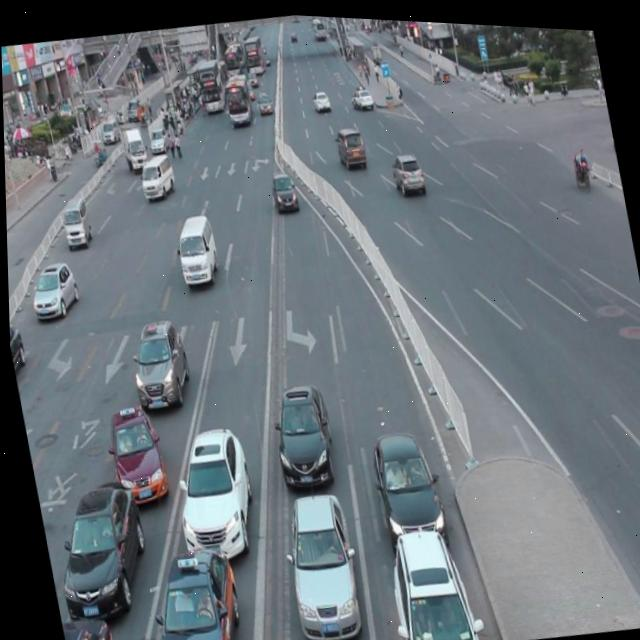car: (40, 470, 155, 626), (270, 477, 365, 640), (160, 415, 261, 563), (377, 510, 479, 640), (131, 531, 247, 640), (362, 413, 444, 544), (262, 371, 338, 488), (100, 395, 170, 507), (121, 308, 194, 413), (23, 256, 81, 323), (56, 608, 117, 640), (389, 145, 425, 195), (268, 168, 299, 213), (7, 320, 28, 383)
truck: (169, 210, 221, 285), (136, 149, 178, 202), (58, 193, 93, 250)
